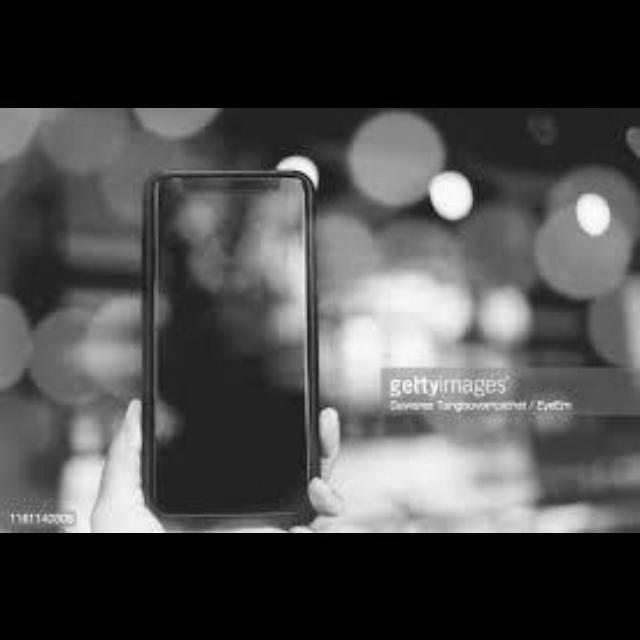fake: (138, 165, 320, 521)
